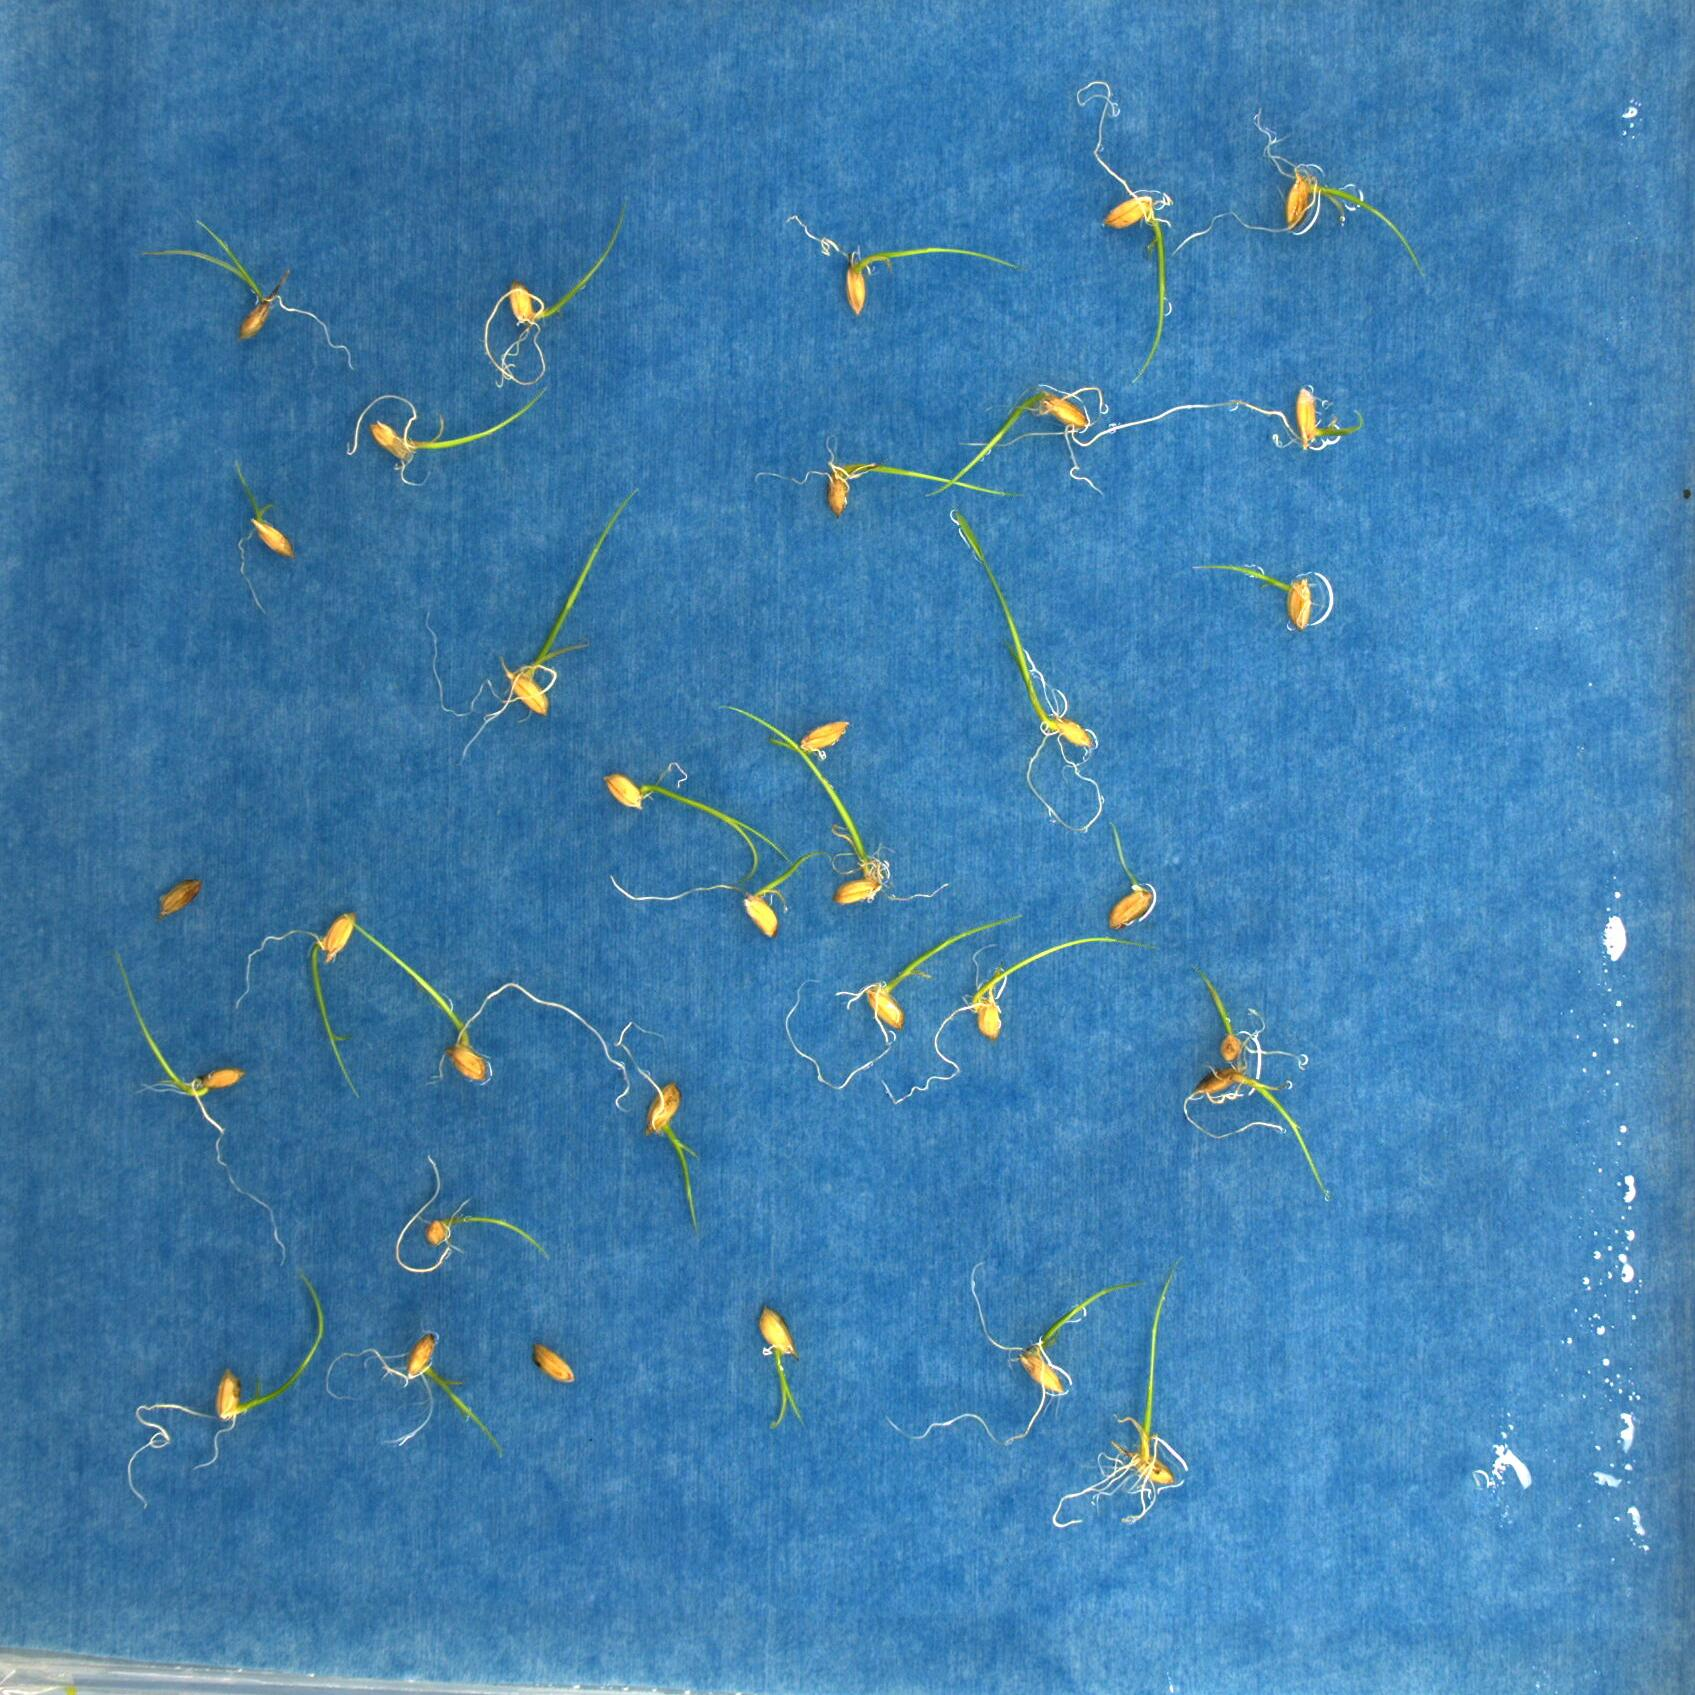not sprout: (154, 879, 200, 920)
sprout: (425, 486, 638, 764), (346, 913, 630, 1111), (113, 947, 289, 1267), (885, 1260, 1150, 1447), (951, 508, 1104, 832), (882, 934, 1166, 1105), (126, 1273, 324, 1510), (719, 703, 948, 908), (1173, 109, 1426, 279), (785, 913, 1023, 1091), (1051, 1254, 1184, 1530), (1065, 383, 1366, 497), (138, 219, 357, 373), (1077, 82, 1173, 386), (481, 196, 627, 386), (785, 214, 1026, 317), (231, 911, 357, 1099), (757, 433, 1024, 518), (604, 771, 799, 886), (326, 1332, 504, 1458), (927, 386, 1111, 498), (348, 385, 545, 487), (612, 847, 826, 939), (1183, 1068, 1332, 1198), (394, 1153, 549, 1274), (613, 1020, 698, 1236), (1191, 964, 1304, 1068), (233, 455, 296, 615), (1194, 563, 1315, 632), (757, 1304, 810, 1428), (1107, 821, 1153, 931), (771, 720, 851, 761), (532, 1343, 574, 1385)
